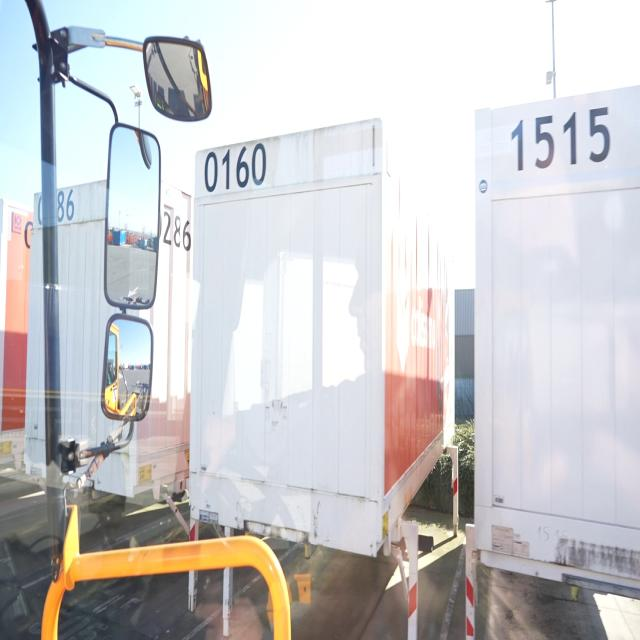Code: (503, 100, 615, 183), (200, 138, 268, 196)
